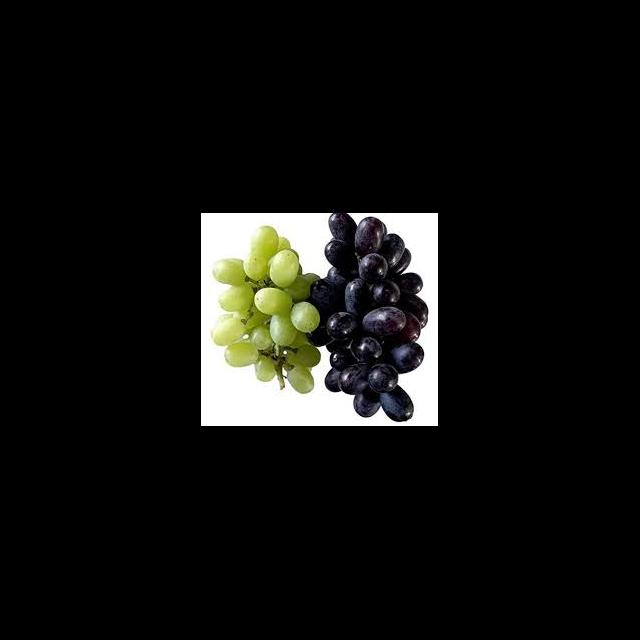grape: (306, 214, 428, 422), (210, 224, 322, 393)
